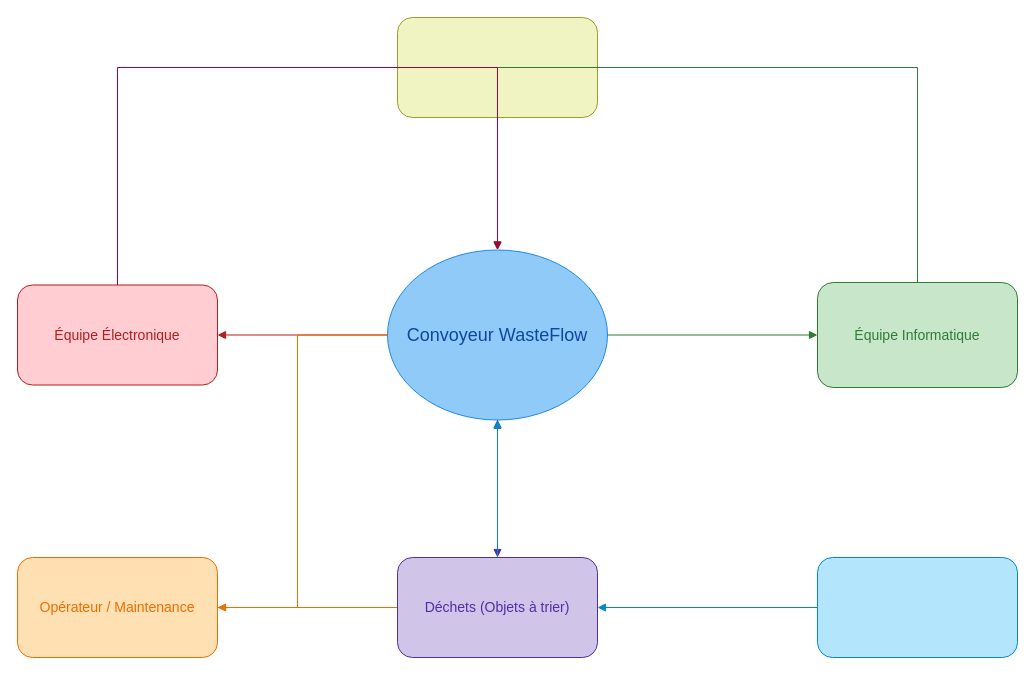
The diagram is 1035 pixels wide and 675 high, and some of its shapes have lost their labels. Each missing label, with the centre of its shape:
Alimentation (Batterie Lithium): the point at 917,607
Environnement (Contraintes physiques): the point at 497,67
